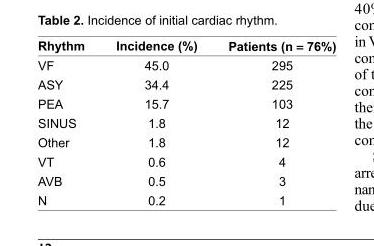table: (36, 36, 335, 206)
table column: (212, 36, 335, 206), (99, 36, 212, 206), (36, 36, 99, 206)
table column header: (36, 36, 335, 55)
table row: (36, 93, 335, 113), (36, 170, 335, 190), (36, 36, 335, 55), (36, 55, 335, 74), (36, 74, 335, 93), (36, 113, 335, 132), (36, 132, 335, 151), (36, 151, 335, 170), (36, 190, 335, 206)
